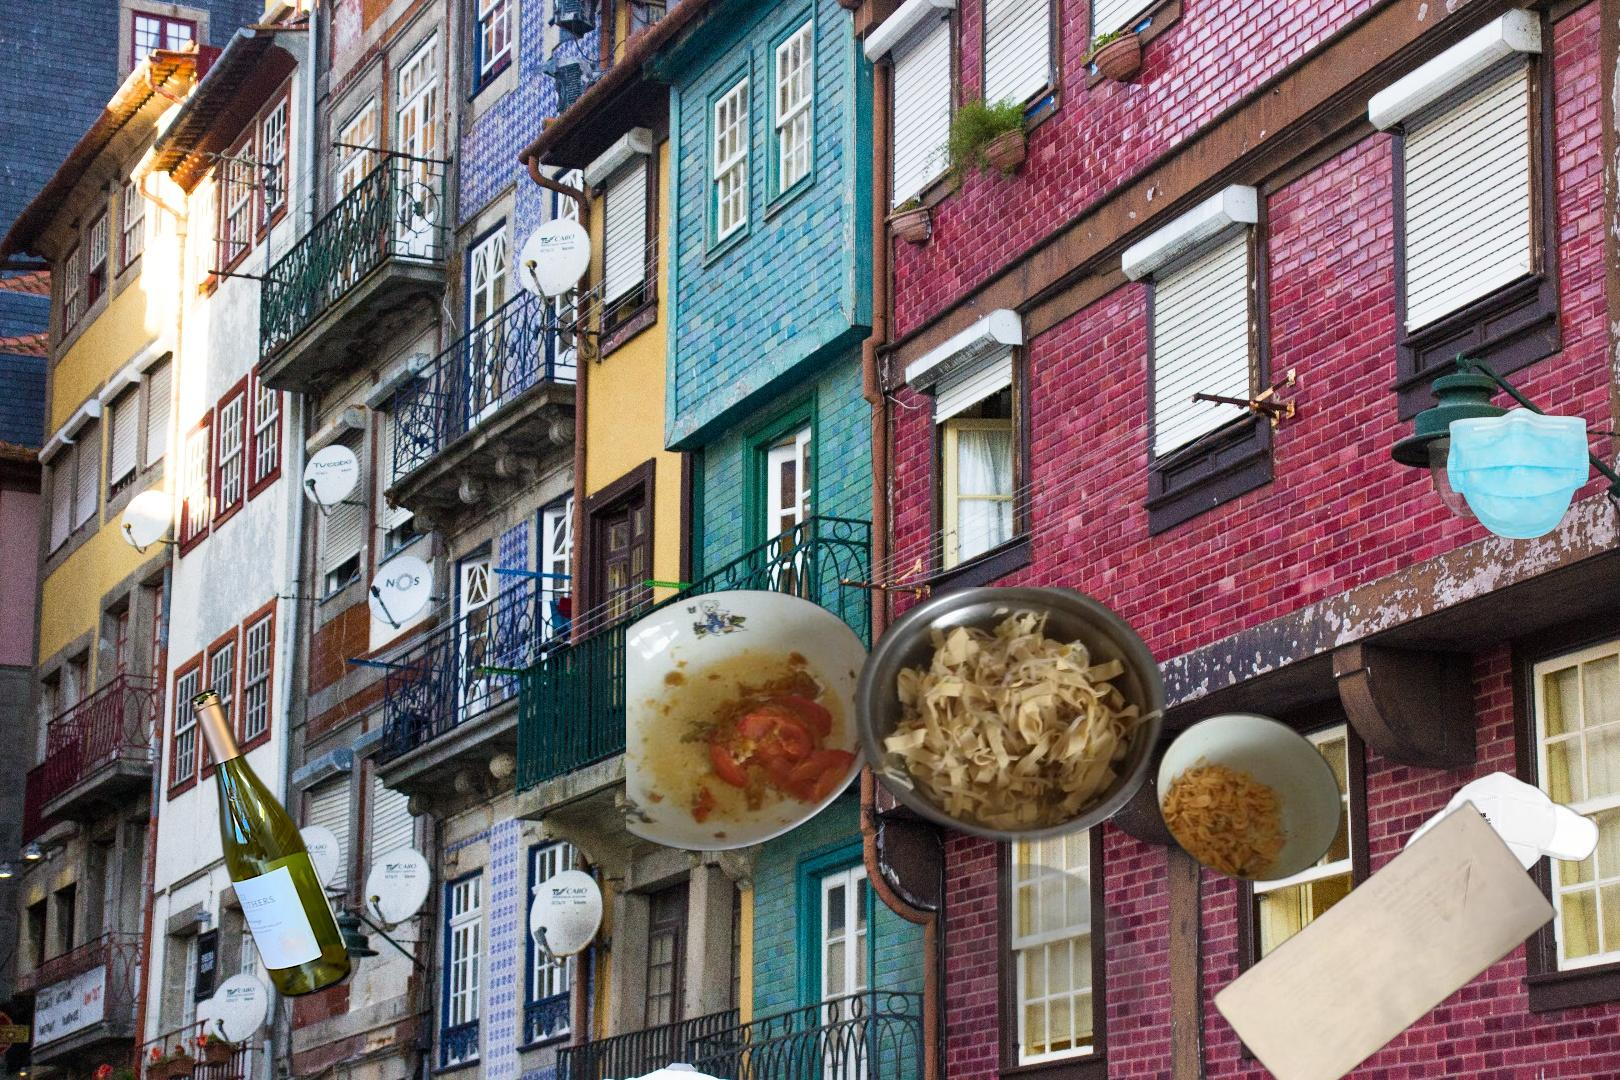biological: (626, 587, 1351, 1046)
glass: (184, 682, 356, 1003)
paper: (1207, 797, 1561, 1080)
trash: (1399, 769, 1602, 891), (1444, 405, 1593, 542)
